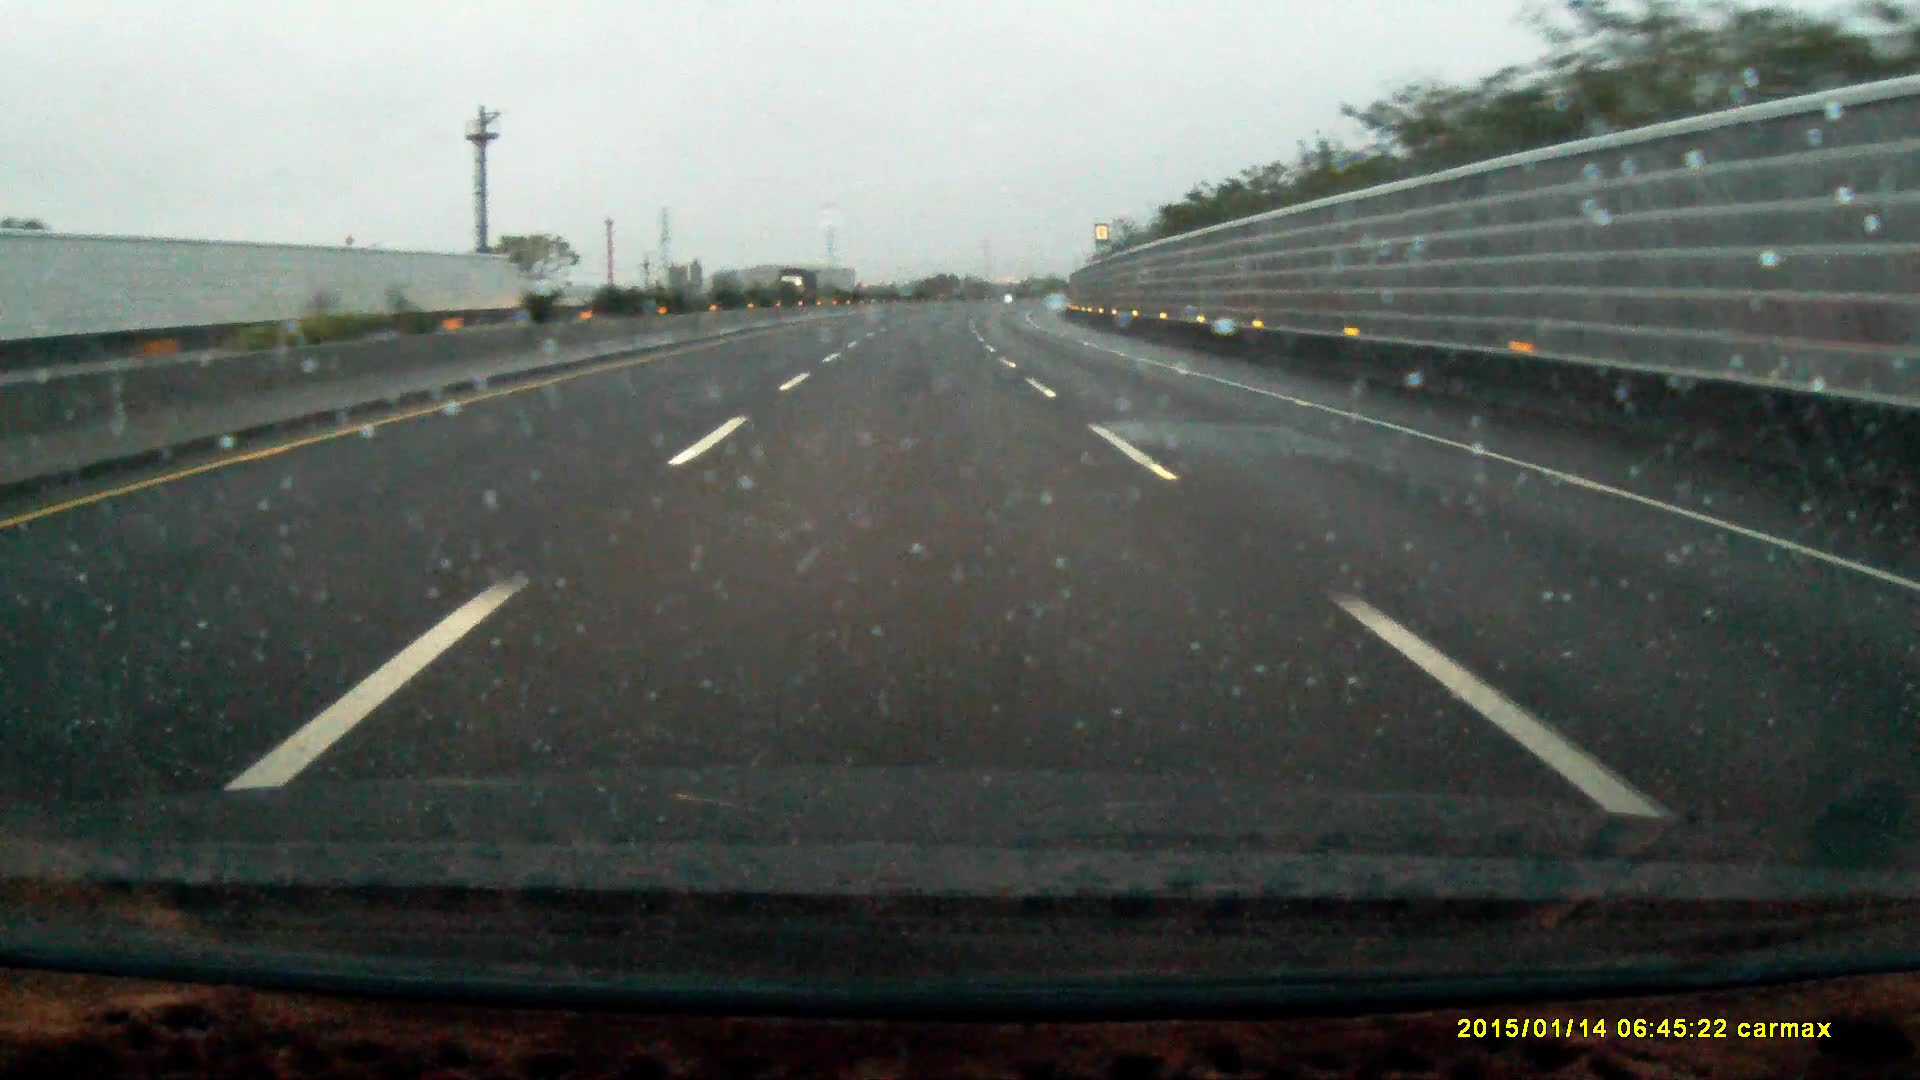vehicle: (777, 266, 820, 303)
